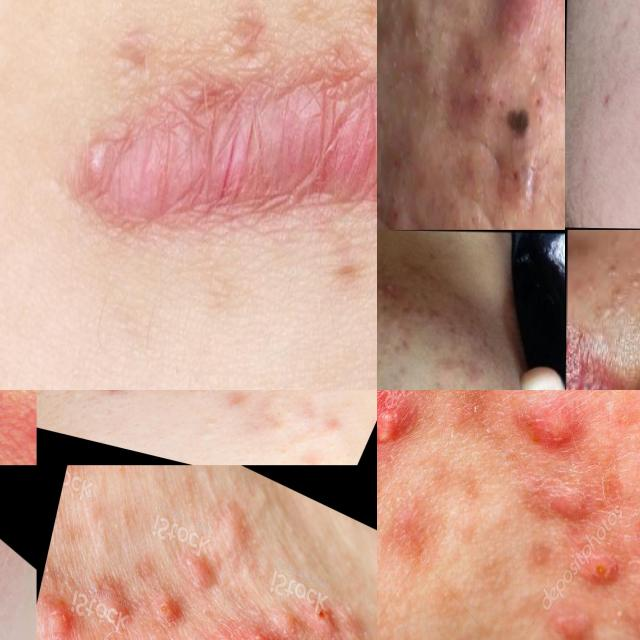acne_scars: (586, 76, 623, 110)
comedone: (187, 413, 237, 448), (427, 307, 440, 326)
crystanlline: (377, 390, 462, 487)
cystic: (84, 563, 143, 640), (542, 407, 588, 473), (490, 0, 547, 49), (36, 578, 78, 640), (154, 585, 191, 640), (326, 602, 373, 640)
flat_wart: (589, 230, 635, 342)
keloid: (43, 35, 377, 284)
papule: (377, 279, 411, 303)
sebo-crystan-conglo: (377, 90, 419, 229), (454, 66, 506, 136), (233, 613, 303, 640), (302, 582, 336, 637)
